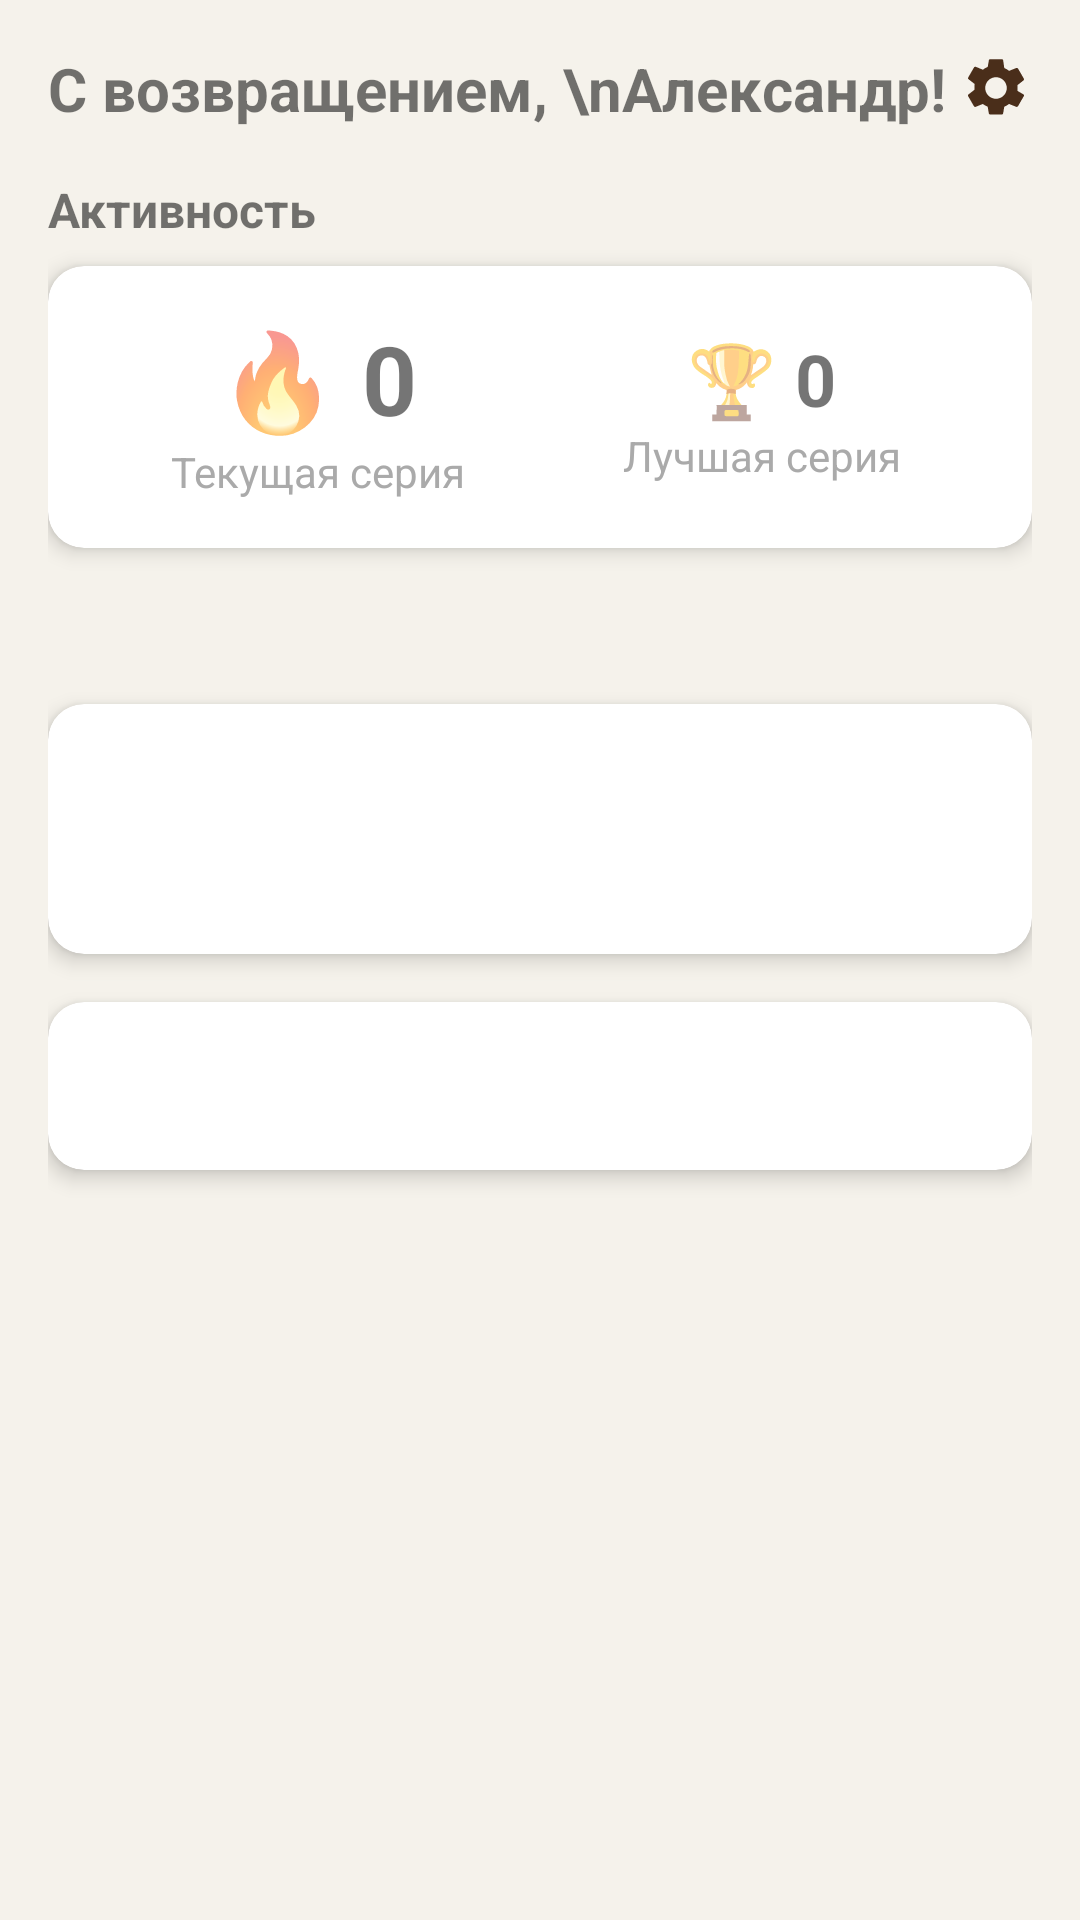

Icon bounding boxes for this 1080 x 1920 phone screenshot, format [left=x1, top=y1, right=x2, bottom=y2]:
settings: [left=968, top=59, right=1024, bottom=115]
